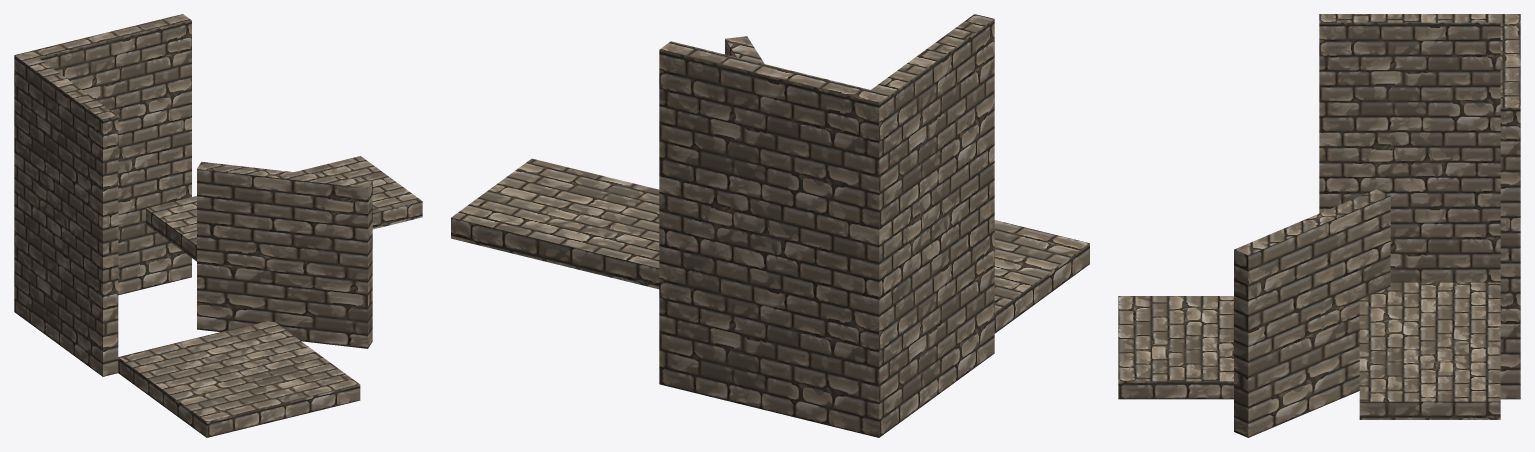
The model's file is Level 1 test.model.obj.
3 views of the same model, side by side, from view 1: azimuth 30°, elevation 25°; view 2: azimuth 150°, elevation 25°; view 3: azimuth 270°, elevation 25° (orthographic). The views are drawn at different scales.
Parts seen in each view (by area): view 1: porch_floor_center_6, porch_floor_center_4, porch_floor_center_3, porch_floor_center_2, porch_floor_center_5, porch_floor_center_7; view 2: porch_floor_center_3, porch_floor_center_4, porch_floor_center_5, porch_floor_center_2, porch_floor_center_7, porch_floor_center_6; view 3: porch_floor_center_4, porch_floor_center_6, porch_floor_center_5, porch_floor_center_2, porch_floor_center_7, porch_floor_center_3.
Boxes of the visible parts, <box> form: porch_floor_center_6: <box>197,161,372,348</box>; porch_floor_center_4: <box>14,51,118,376</box>; porch_floor_center_3: <box>30,14,191,295</box>; porch_floor_center_2: <box>118,321,360,437</box>; porch_floor_center_5: <box>146,156,412,261</box>; porch_floor_center_7: <box>180,170,422,230</box>; porch_floor_center_3: <box>659,41,870,432</box>; porch_floor_center_4: <box>859,14,994,437</box>; porch_floor_center_5: <box>451,167,659,289</box>; porch_floor_center_2: <box>994,220,1089,333</box>; porch_floor_center_7: <box>474,158,659,245</box>; porch_floor_center_6: <box>725,36,764,63</box>; porch_floor_center_4: <box>1319,14,1520,282</box>; porch_floor_center_6: <box>1234,189,1390,437</box>; porch_floor_center_5: <box>1380,282,1500,419</box>; porch_floor_center_2: <box>1118,296,1233,399</box>; porch_floor_center_7: <box>1359,291,1460,419</box>; porch_floor_center_3: <box>1500,22,1520,399</box>.
Size of the model in its own units: 2.2 by 1.6 by 2.
Materials: 1 (1 with a texture image).
